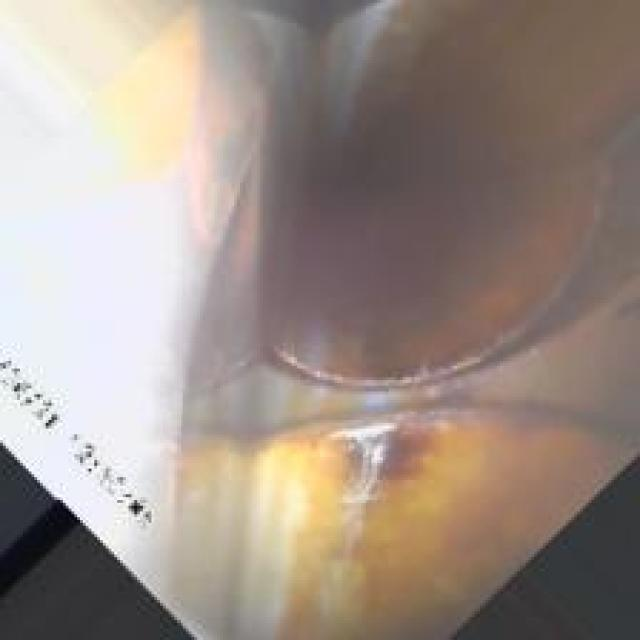joint: (152, 14, 612, 609)
